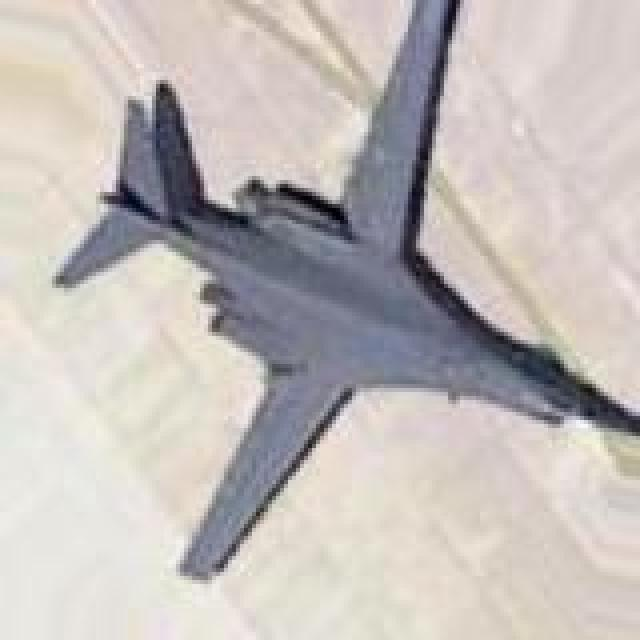B-1_TopDown: (48, 0, 636, 584)
